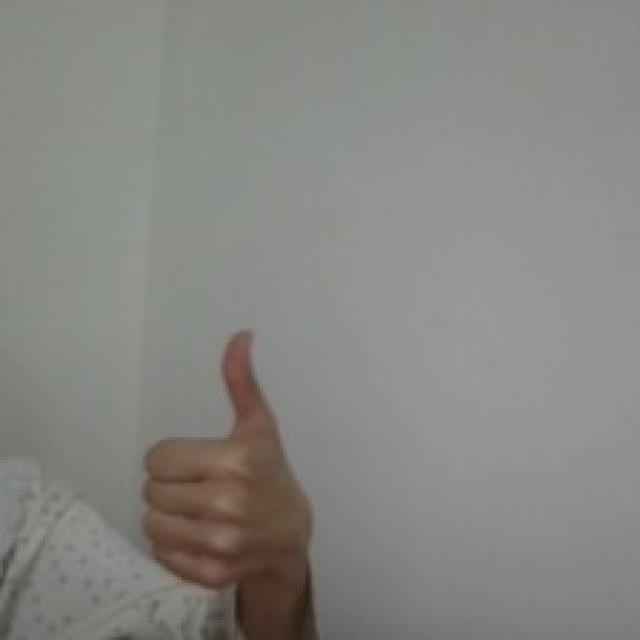fine: (135, 317, 313, 589)
